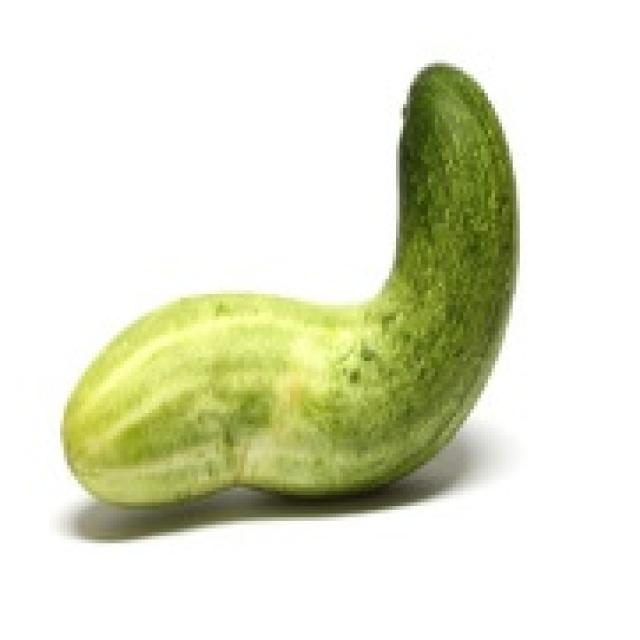cucumber: (53, 56, 527, 510)
